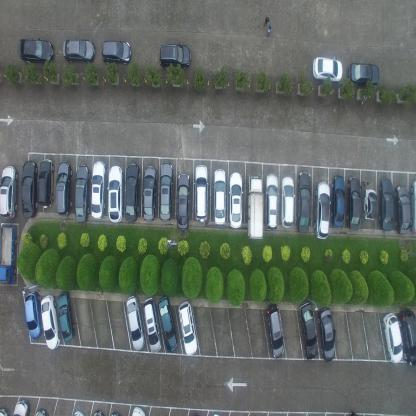car: (157, 294, 178, 352), (299, 300, 319, 360), (40, 294, 61, 350), (17, 36, 55, 66), (247, 173, 264, 240), (178, 298, 198, 354), (382, 312, 403, 364), (0, 224, 18, 284), (142, 296, 161, 352), (398, 308, 416, 367), (56, 290, 76, 342), (126, 294, 144, 351), (0, 164, 19, 218), (296, 170, 312, 234), (266, 302, 284, 358), (318, 307, 336, 363), (107, 164, 124, 223), (158, 42, 192, 71), (124, 162, 140, 222), (90, 160, 106, 220), (21, 159, 37, 219), (62, 37, 96, 65), (24, 291, 43, 340), (312, 54, 342, 85), (194, 164, 210, 222), (100, 38, 132, 67), (346, 175, 362, 232), (74, 163, 89, 223), (56, 160, 72, 216), (159, 161, 174, 220), (176, 172, 191, 230), (228, 171, 243, 229), (315, 181, 330, 238), (37, 157, 54, 207), (264, 172, 278, 232), (348, 61, 379, 88), (394, 183, 410, 234), (212, 168, 226, 226), (142, 164, 156, 221), (280, 176, 295, 228), (379, 178, 394, 230), (331, 174, 345, 228), (363, 186, 378, 220), (410, 180, 416, 236), (12, 398, 30, 416), (130, 404, 146, 415)
